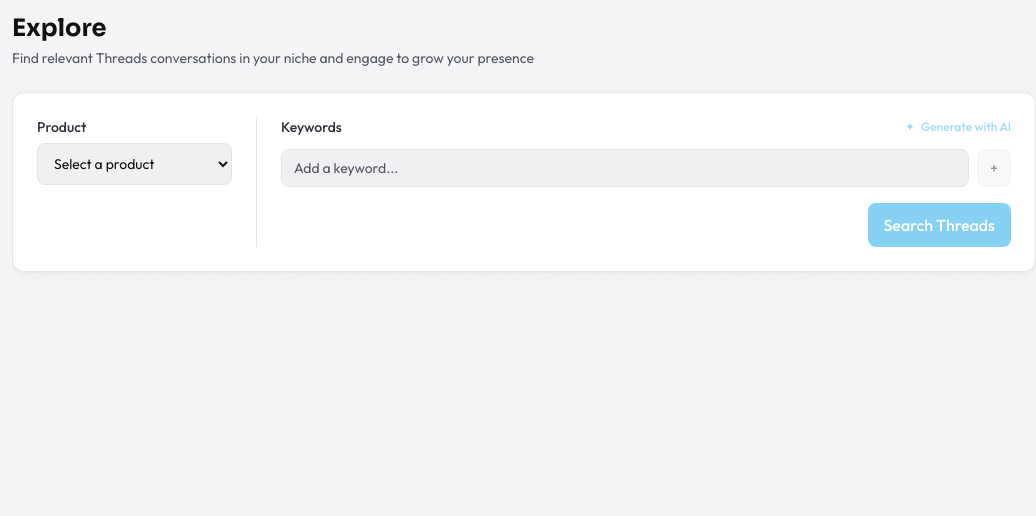
Test: ExploreClient › after search with results › renders "1 results" count and a post card after search
Select "My SaaS" in the dropdown labelled "Product" at coordinates (134, 164), box [37,143,232,185]
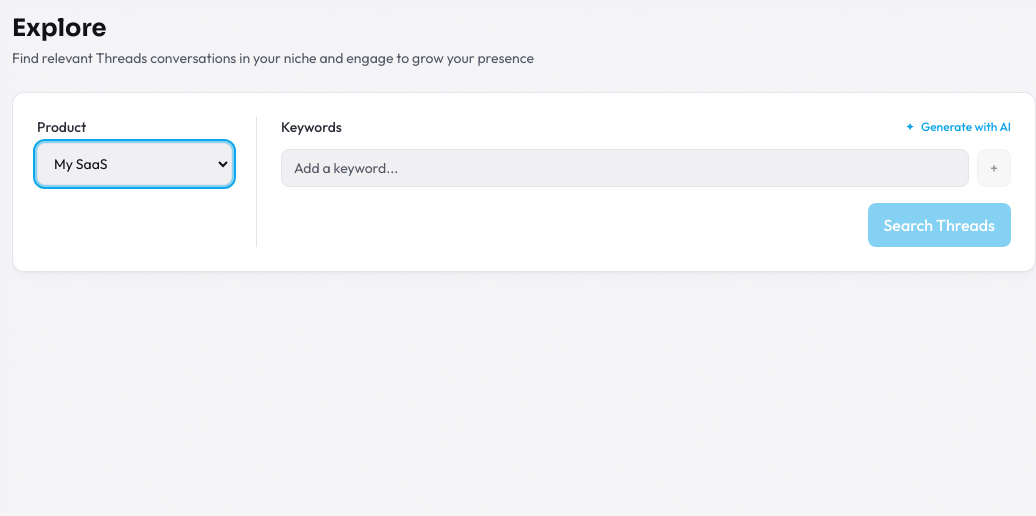
Click the button "✦ Generate with AI" at coordinates (958, 127), box [905,119,1011,135]
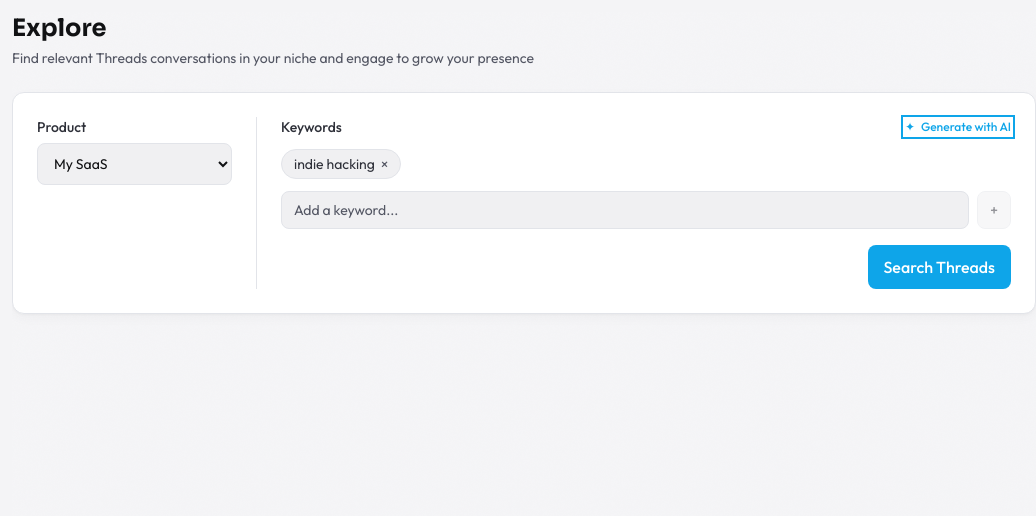
Expected: the text "indie hacking" is shown, [294,155,375,173]
Click the button "Search Threads" at coordinates (939, 267), box [868,245,1011,289]
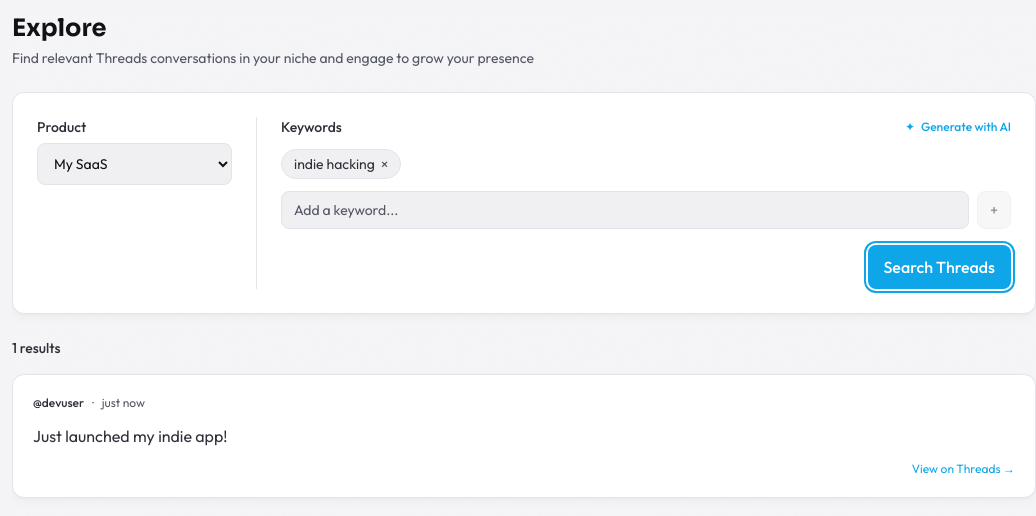
Expected: the text "1 results?" is shown, [12,339,60,357]
Expected: the text "Just launched my indie app!" is shown, [33,426,227,446]
